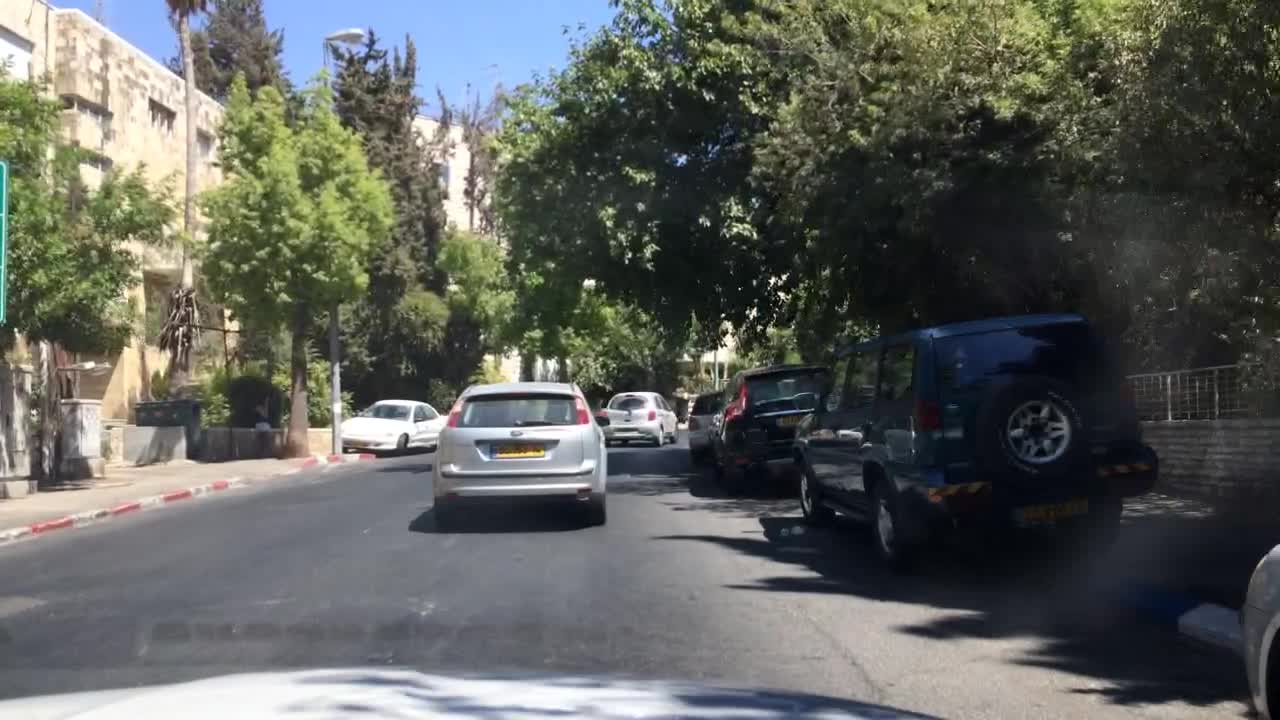car: (789, 312, 1157, 570), (430, 380, 607, 528), (707, 361, 832, 489), (1237, 538, 1279, 719), (337, 398, 442, 457), (597, 390, 678, 447), (685, 388, 725, 459)
traffic sign: (0, 160, 8, 322)
